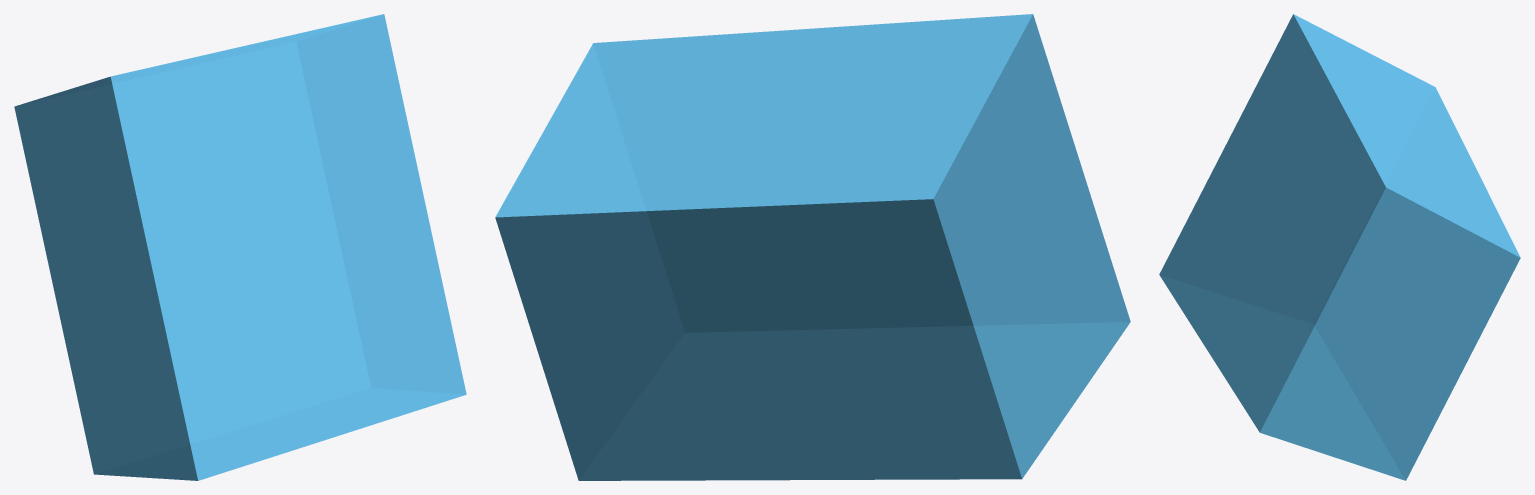
The model's file is Event_420107950_HErechit_47.fbx.
3 renders of one model, left to right at view 1: azimuth 30°, elevation 25°; view 2: azimuth 150°, elevation 25°; view 3: azimuth 270°, elevation 25°, orthographic. The views are drawn at different scales.
Visible parts, largest first — view 1: Model; view 2: Model; view 3: Model.
Boxes of the visible parts, x1,y1,x2,y2 form: Model: (14, 14, 466, 480); Model: (495, 14, 1130, 480); Model: (1159, 14, 1520, 480).
Bounding box in the file's own units: 0.6992 × 0.8839 × 0.8468.
